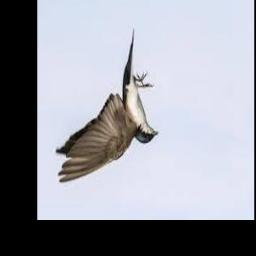Swallow: (55, 28, 158, 183)
